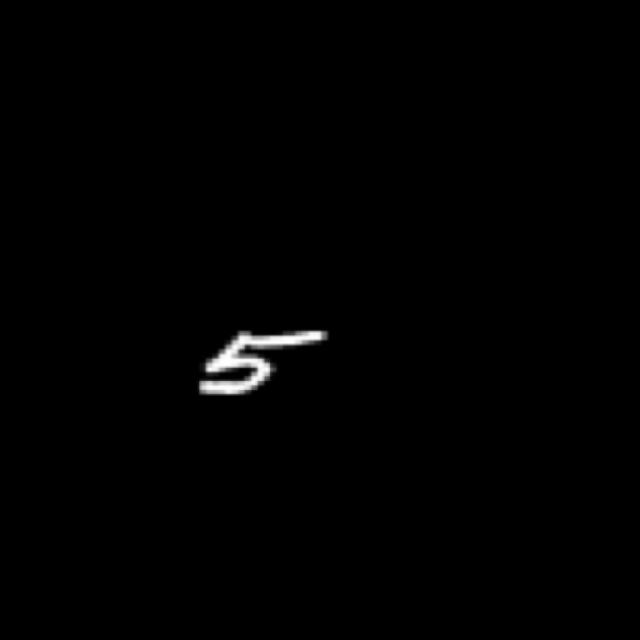five -5-: (187, 320, 338, 404)
